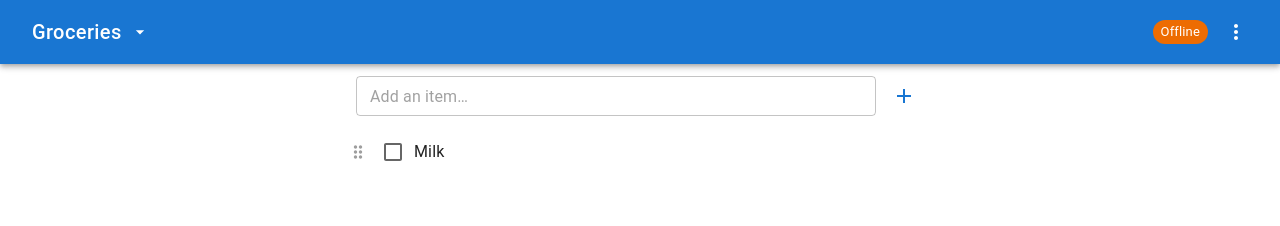
Test: offline mutation queue › queues an add while offline and replays it on reconnect
Check: the text "Milk" is shown, box left=414, top=142, right=444, bottom=161
Check: the text "Offline" is shown, box left=1161, top=24, right=1200, bottom=39
In the field labelled "Add an item": (616, 96) left=356, top=76, right=876, bottom=116, type "Bread"
Then press Enter
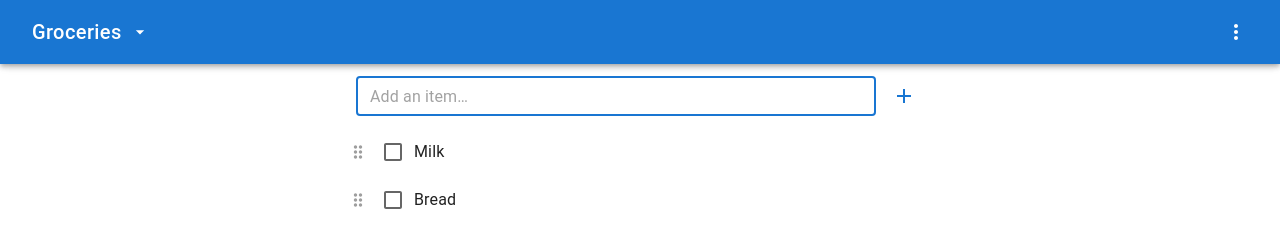
Check: the text "Offline" is gone
Check: the text "Bread" is shown, box left=414, top=190, right=456, bottom=209
